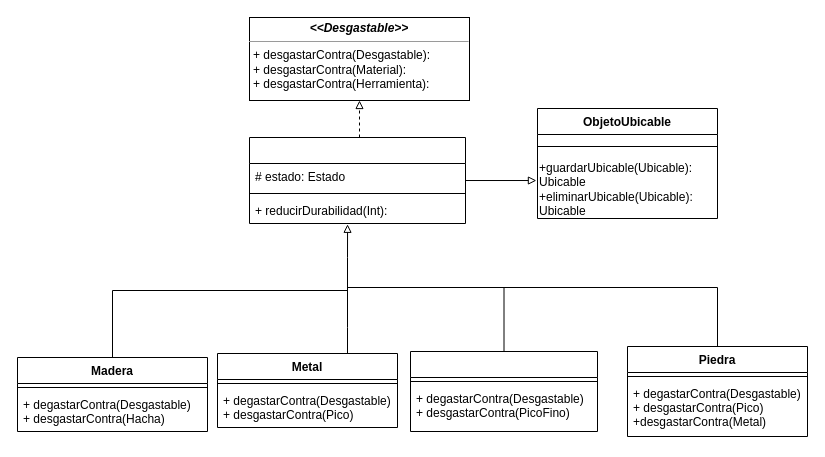
The diagram is 825 pixels wide and 457 high, and some of its shapes have lost their labels. The shapes that lost their labels are listed below. From the top down, each one's box as (x1, y1, x2, y2) in pixels, then its label:
(248, 136, 466, 224): Material
(410, 350, 598, 432): Diamante
